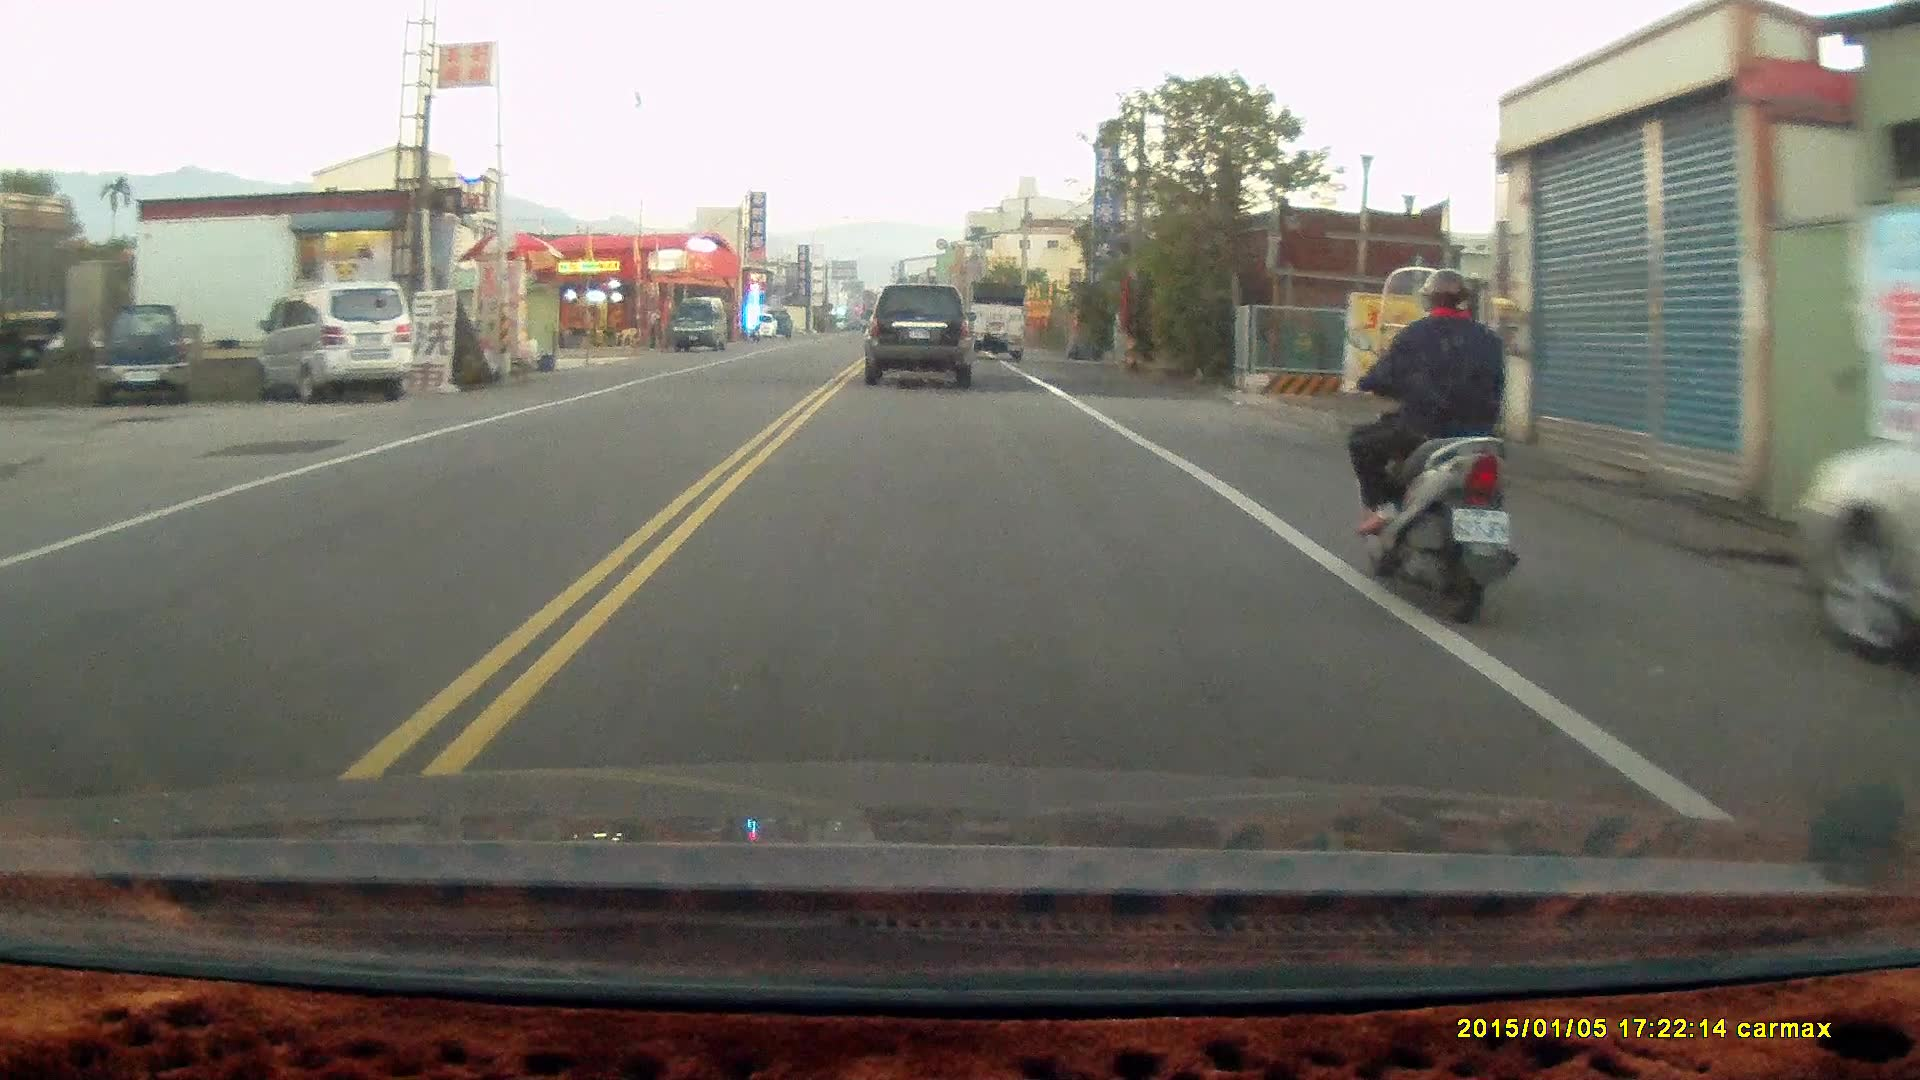rider: (1350, 261, 1523, 622)
vehicle: (1789, 356, 1919, 683), (255, 276, 411, 405), (864, 279, 981, 389), (89, 303, 193, 408), (967, 278, 1029, 359), (667, 297, 726, 349)
